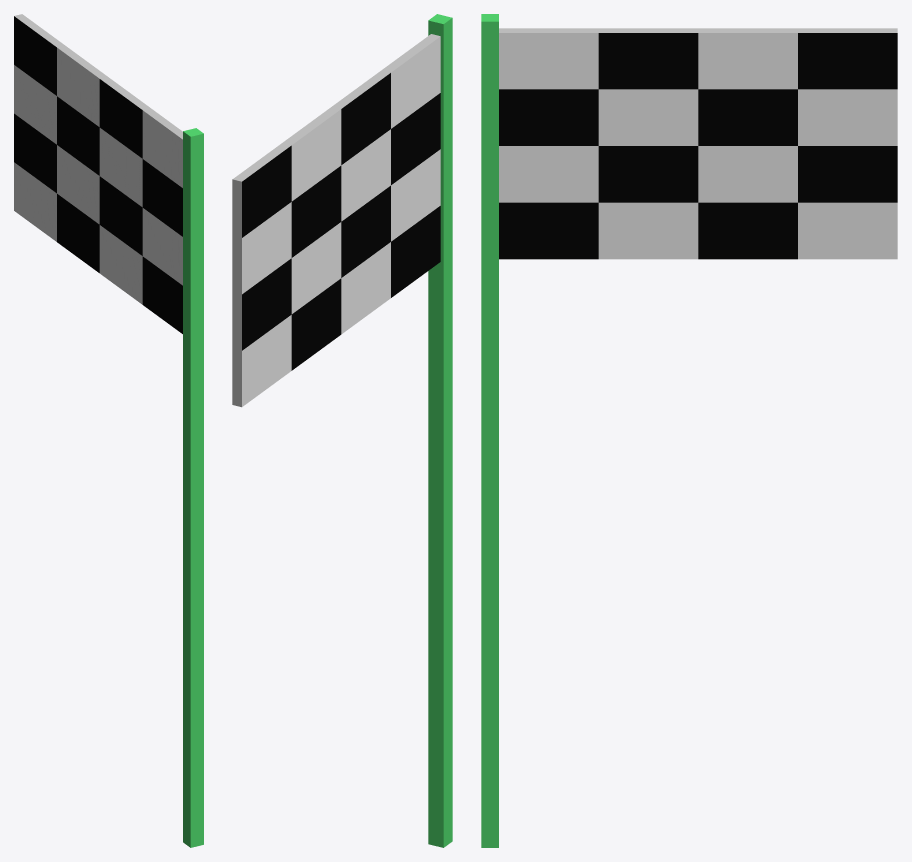
Rendered from Goal.fbx.
3 renders of one model, left to right at view 1: azimuth 30°, elevation 25°; view 2: azimuth 150°, elevation 25°; view 3: azimuth 270°, elevation 25°, orthographic. The views are drawn at different scales.
Parts seen in each view (by area): view 1: Cube; view 2: Cube; view 3: Cube.
Boxes of the visible parts, x1,y1,x2,y2 form: Cube: (14, 14, 203, 847); Cube: (232, 14, 452, 847); Cube: (481, 14, 897, 847).
Size of the model in its own units: 0.1838 by 9.41 by 4.3.
